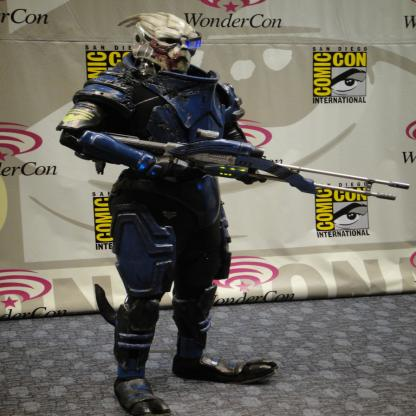Helmet: (117, 11, 203, 75)
